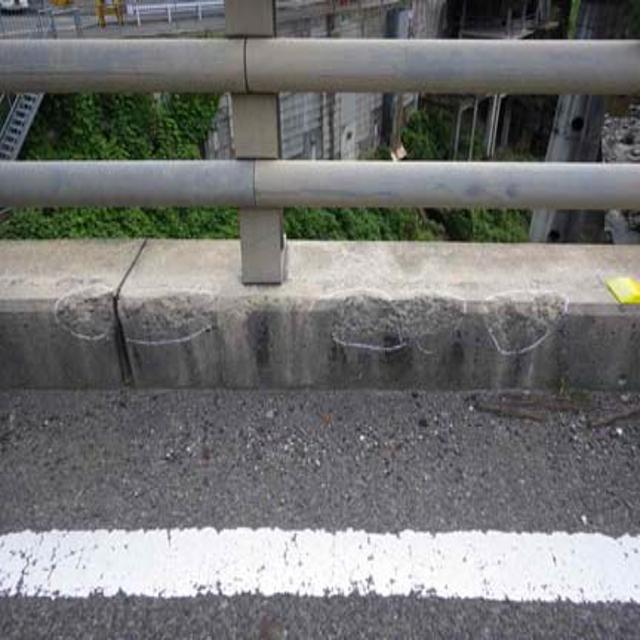spalling: (321, 283, 566, 360), (54, 282, 226, 348)
